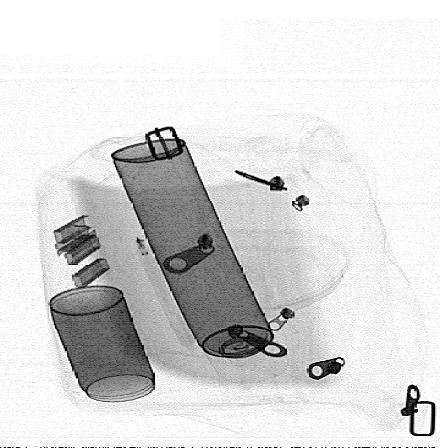Sprayer: (111, 138, 287, 395)
